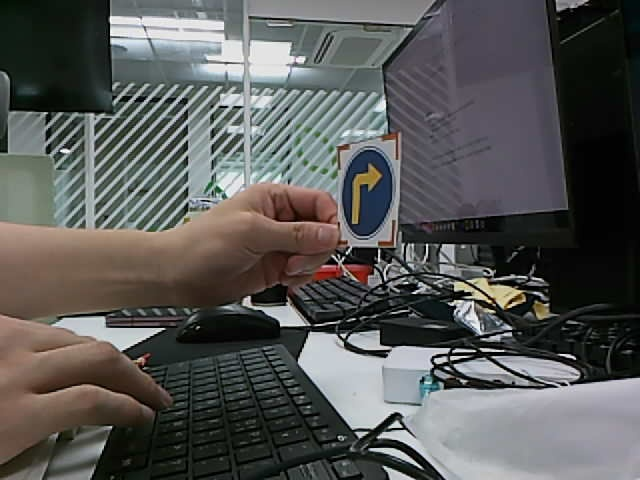right: (340, 147, 396, 240)
